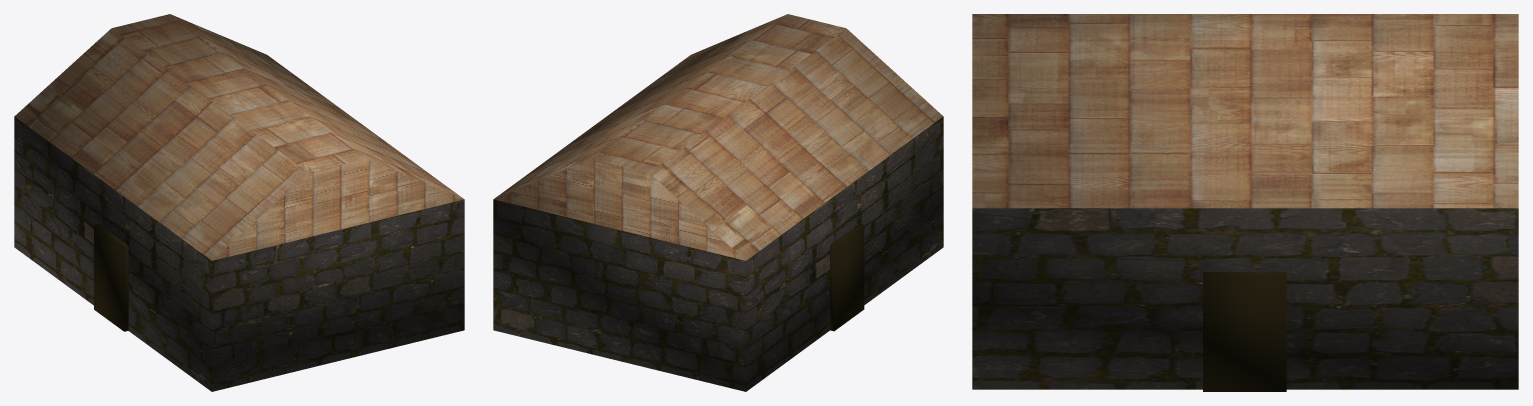
File: rural-house-small_4.fbx
3 views of the same model, side by side, from view 1: azimuth 30°, elevation 25°; view 2: azimuth 150°, elevation 25°; view 3: azimuth 270°, elevation 25° (orthographic). The views are drawn at different scales.
Visible parts, largest first — view 1: Cube.037; view 2: Cube.037; view 3: Cube.037.
Part boxes in pixels (x1,y1,x2,y2): Cube.037: (14,14,464,391); Cube.037: (493,14,943,391); Cube.037: (972,14,1518,391).
Size of the model in its own units: 417 by 298 by 546.
